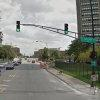Traffic light: (6, 14, 80, 42)
